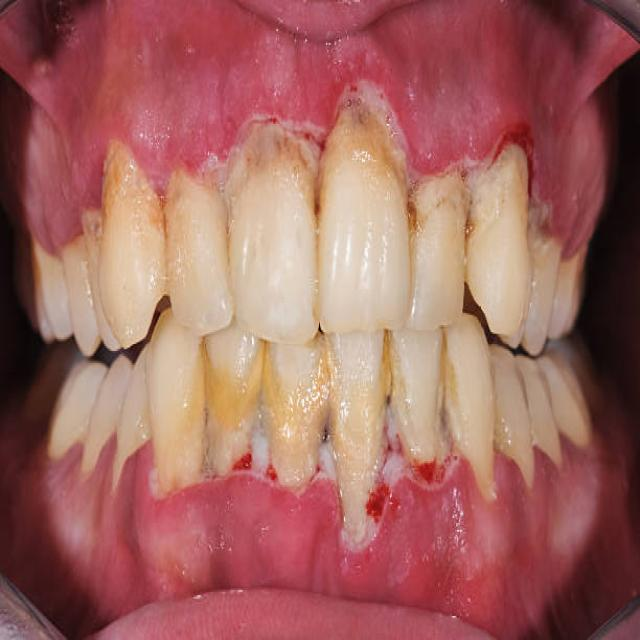Gingivitis: (395, 30, 582, 158), (166, 23, 382, 128), (369, 506, 563, 618), (212, 486, 344, 588), (50, 46, 107, 192)
